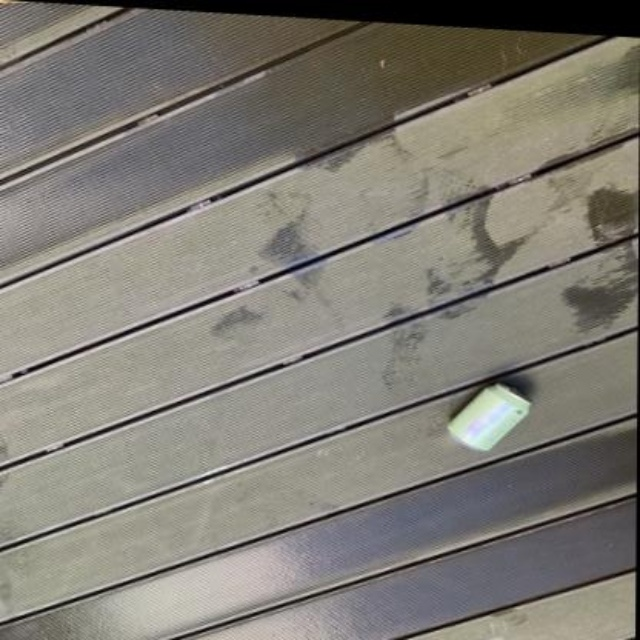trash: (448, 383, 529, 449)
